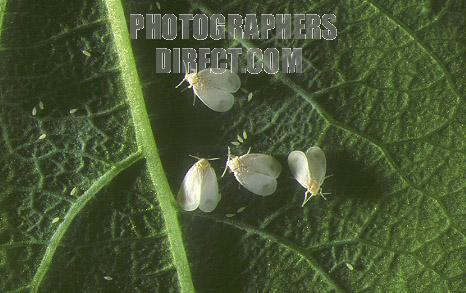whitefly: (221, 147, 281, 197), (287, 146, 331, 206), (175, 154, 219, 213)
